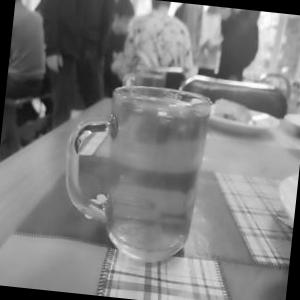tea: (74, 72, 235, 278)
